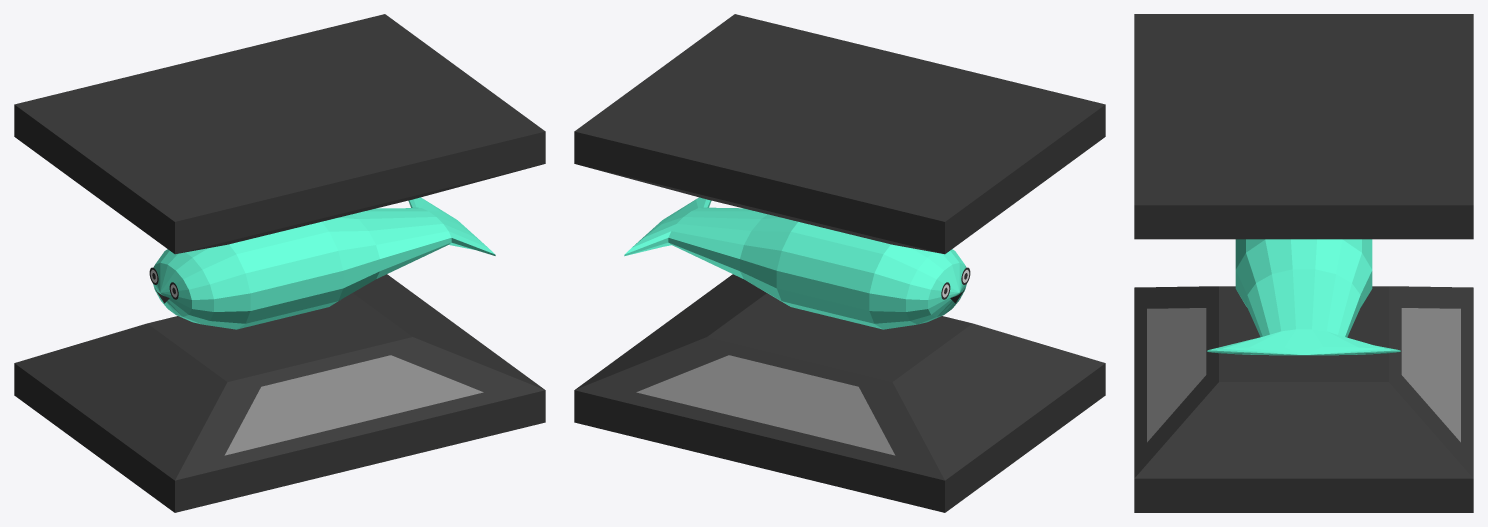
File: MDS_H.obj
3 views of the same model, side by side, from view 1: azimuth 30°, elevation 25°; view 2: azimuth 150°, elevation 25°; view 3: azimuth 270°, elevation 25° (orthographic). The views are drawn at different scales.
Parts seen in each view (by area): view 1: side_selection, side, cylinder; view 2: side_selection, side, cylinder; view 3: side_selection, side, cylinder.
Part boxes in pixels (x1,y1,x2,y2): side_selection: (14,14,545,455); side: (14,274,545,512); cylinder: (153,197,495,329); side_selection: (574,14,1105,455); side: (574,274,1105,512); cylinder: (624,197,966,329); side_selection: (1134,14,1473,442); side: (1134,286,1473,512); cylinder: (1207,239,1400,355).
Size of the model in its own units: 12 by 9 by 9.
